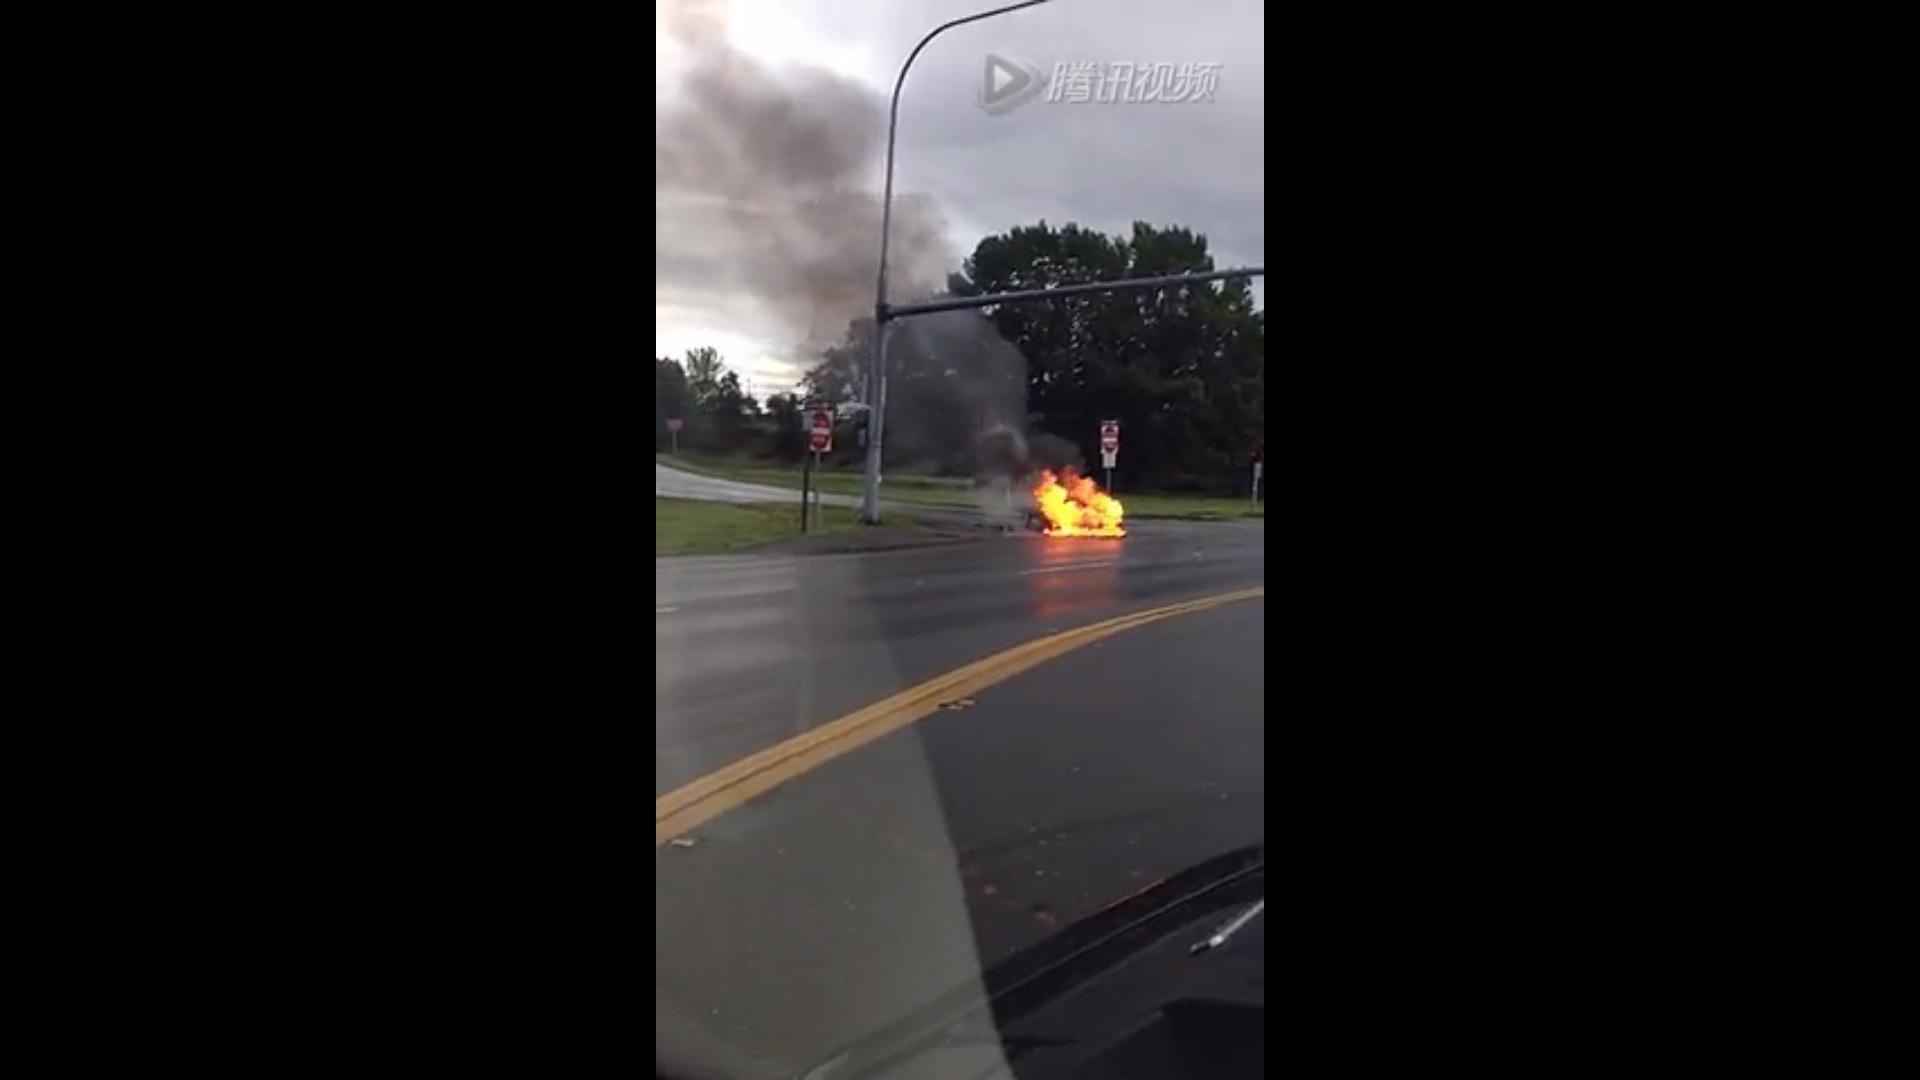fire: (1031, 468, 1126, 541)
